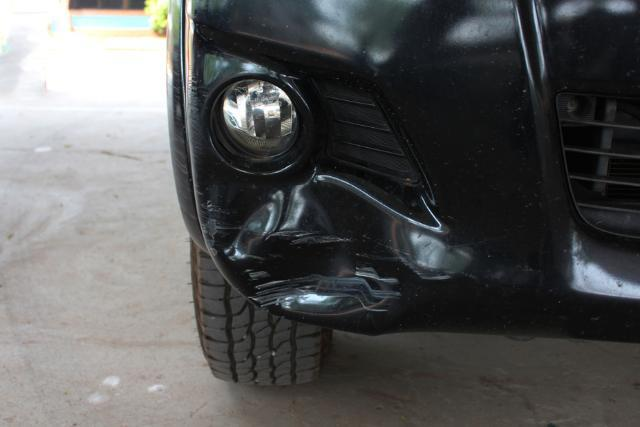Bumper: (200, 109, 544, 335)
